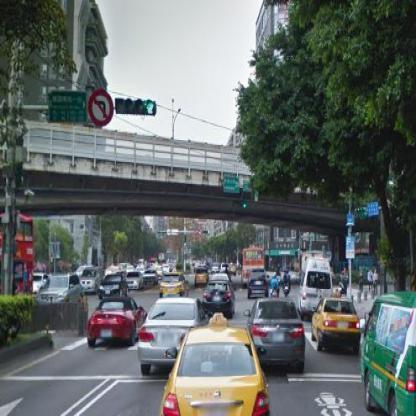Green Light: (112, 98, 160, 118), (233, 199, 250, 209)
